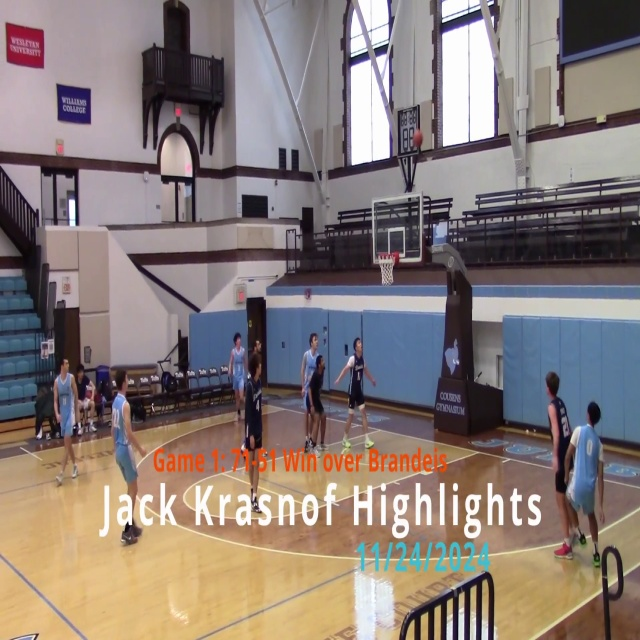Basketball: (413, 129, 423, 148), (342, 440, 351, 448), (175, 107, 182, 116)
